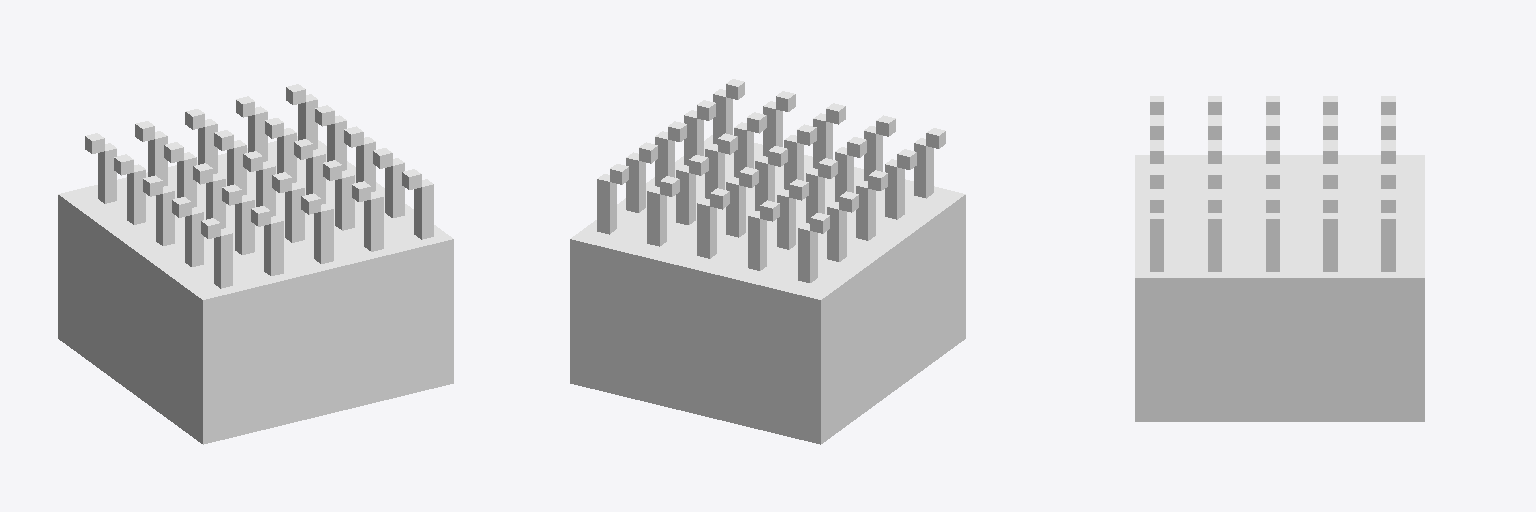
Rendered from Wheat_Level_2.obj.
3 views of the same model, side by side, from view 1: azimuth 30°, elevation 25°; view 2: azimuth 150°, elevation 25°; view 3: azimuth 270°, elevation 25° (orthographic).
Parts seen in each view (by area): view 1: Wheat_Level_2; view 2: Wheat_Level_2; view 3: Wheat_Level_2.
Boxes of the visible parts, box(x1,y1,x2,y2) form: Wheat_Level_2: box(58, 84, 453, 444); Wheat_Level_2: box(570, 79, 965, 444); Wheat_Level_2: box(1135, 96, 1424, 421).
Bounding box in the file's own units: 20 × 16 × 20.